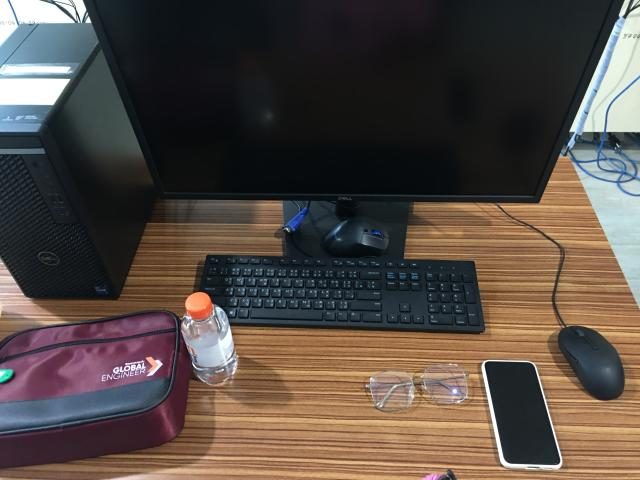Glasses: (365, 366, 471, 412)
Mobile phone: (482, 362, 564, 471)
Mouse: (555, 326, 627, 403), (320, 216, 390, 257)
bottle: (180, 292, 239, 389)
